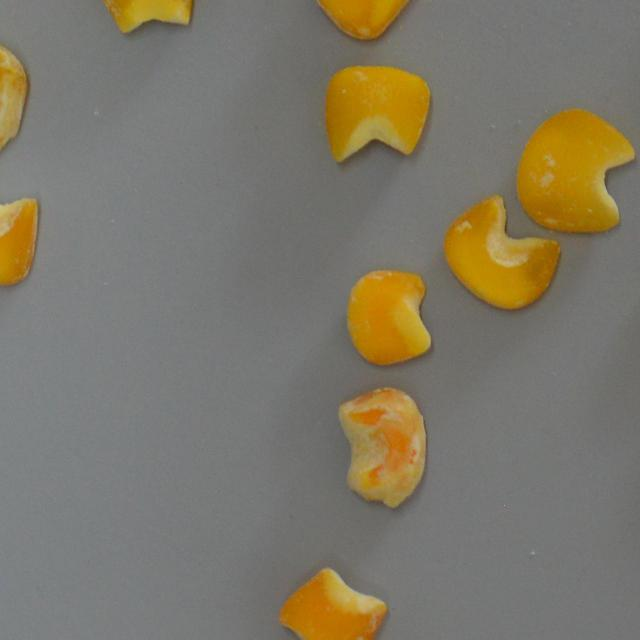no_canjicado: (324, 64, 430, 164)
pelicula: (514, 107, 636, 234), (444, 192, 560, 312), (336, 387, 428, 508), (344, 268, 432, 366), (278, 566, 386, 640), (0, 168, 38, 286), (309, 0, 418, 40), (0, 36, 32, 156), (86, 0, 194, 34)
